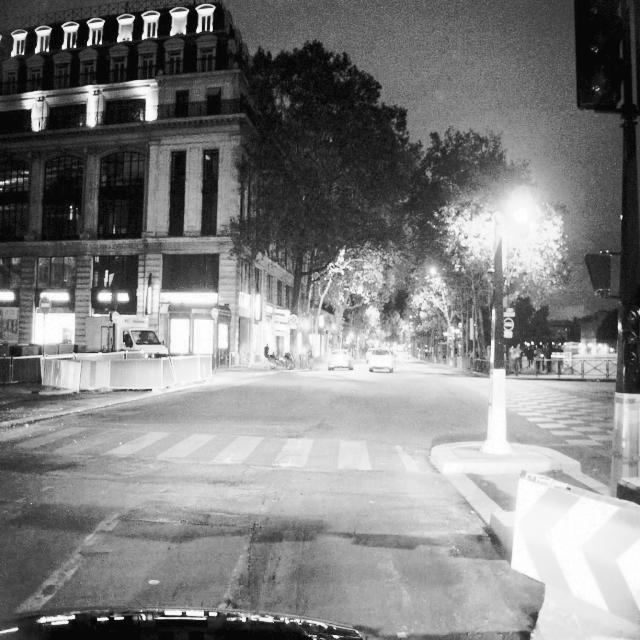Light: (574, 0, 624, 108), (622, 307, 640, 382), (584, 253, 612, 288)
